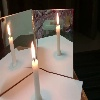fire: (30, 40, 36, 62)
